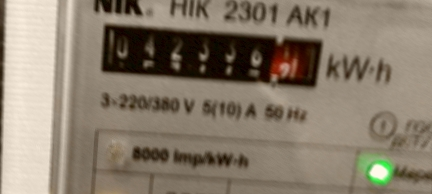0: (114, 31, 127, 60)
2: (166, 33, 184, 60)
3: (193, 33, 209, 63), (222, 35, 236, 63)
4: (140, 32, 156, 59)
6: (247, 41, 262, 68)
screen: (89, 14, 329, 96)
